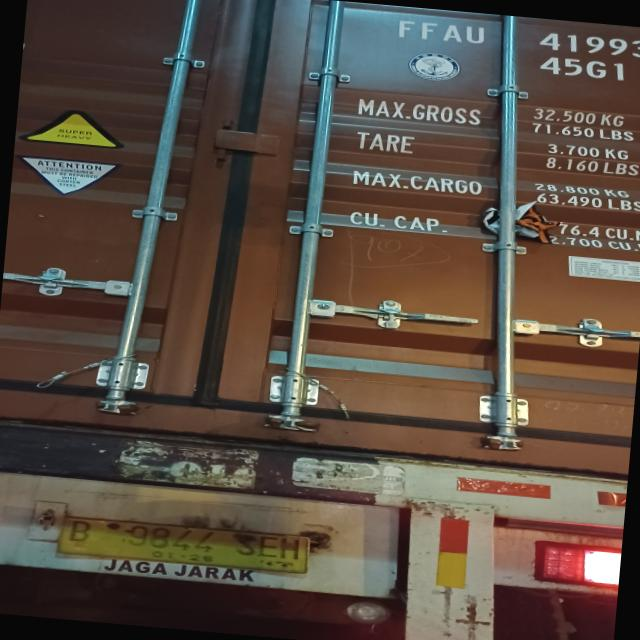seal: (378, 306, 403, 329)
